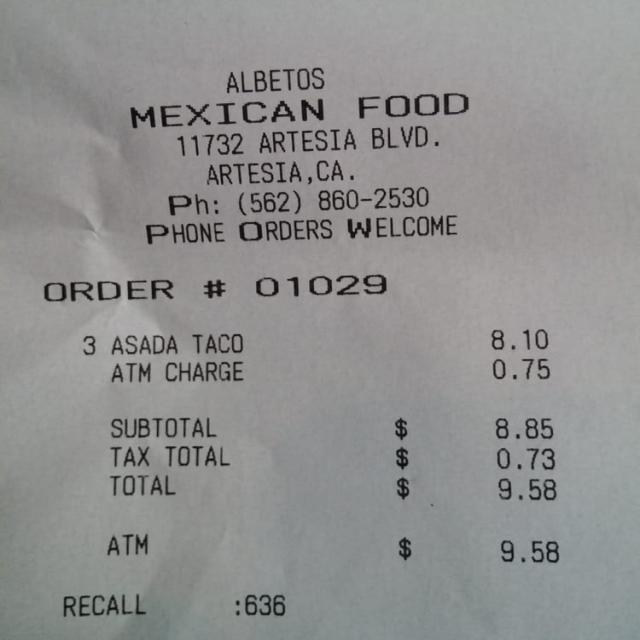TotalPrice: (101, 467, 592, 521)
